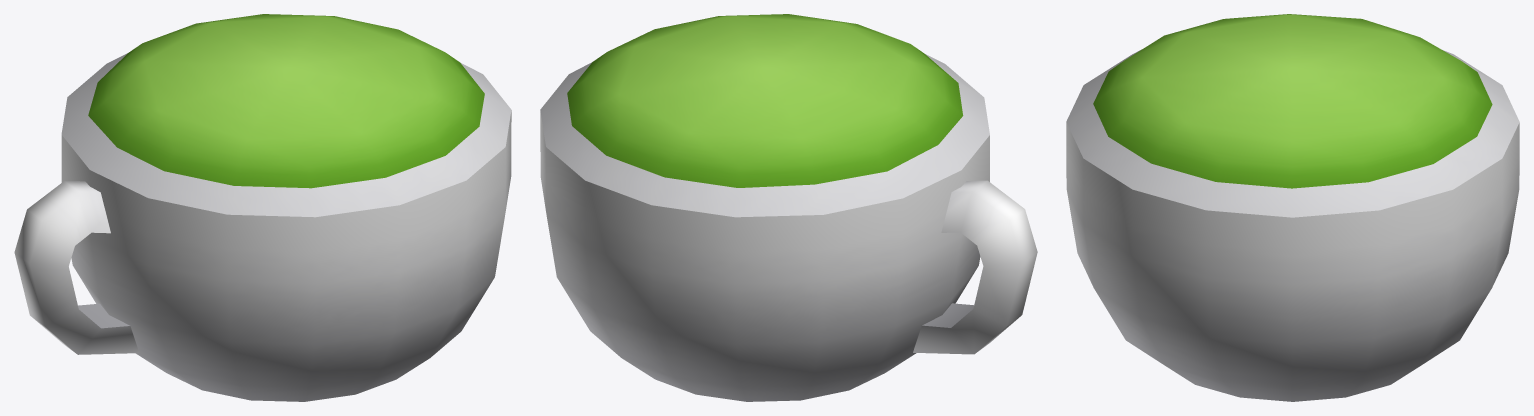
The model's file is m_Cup02_Matcha01.fbx.
The picture shows the model from 3 angles, left to right: view 1: azimuth 30°, elevation 25°; view 2: azimuth 150°, elevation 25°; view 3: azimuth 270°, elevation 25°; orthographic projection.
Visible parts, largest first — view 1: m_Cup02_Matcha01; view 2: m_Cup02_Matcha01; view 3: m_Cup02_Matcha01.
Boxes of the visible parts, <box> form: m_Cup02_Matcha01: <box>14,14,511,401</box>; m_Cup02_Matcha01: <box>540,14,1037,401</box>; m_Cup02_Matcha01: <box>1066,14,1519,401</box>.
Bounding box in the file's own units: 14.87 × 8.5 × 12.68.
